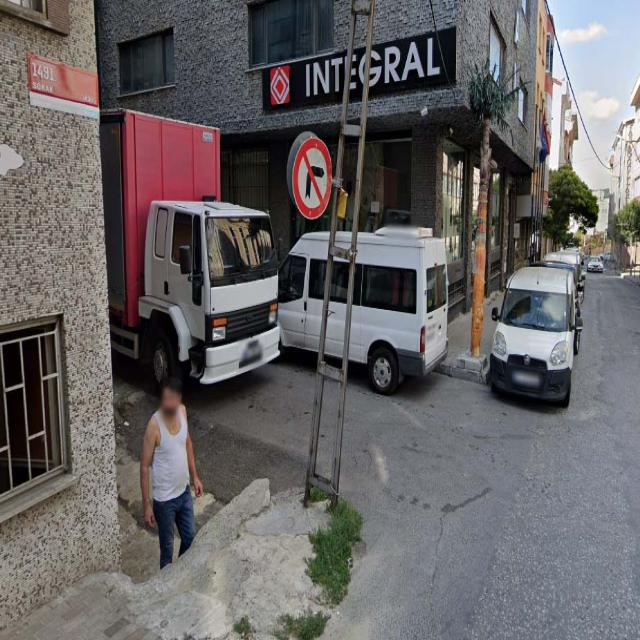sagadonulmez: (292, 138, 332, 218)
